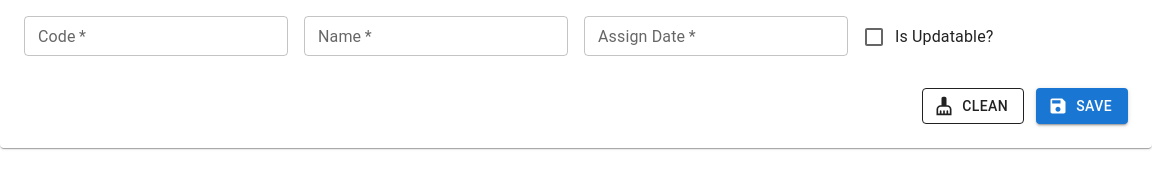
Test: RecordForm › shows errors when required fields are empty
Click the button "Save": click(1082, 106) [1036,88,1128,124]
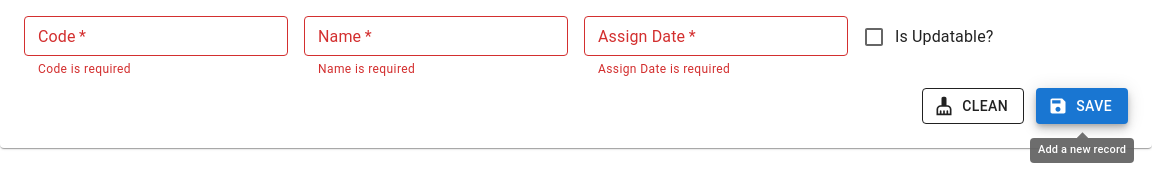
Check: the text "Code is required" is shown, box [38,62,131,76]
